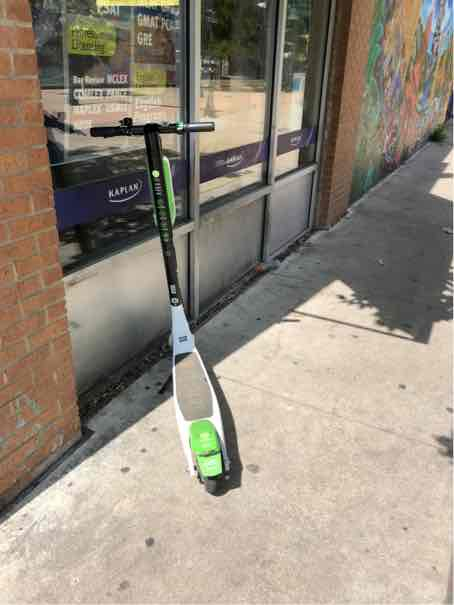scooter: (90, 113, 257, 503)
